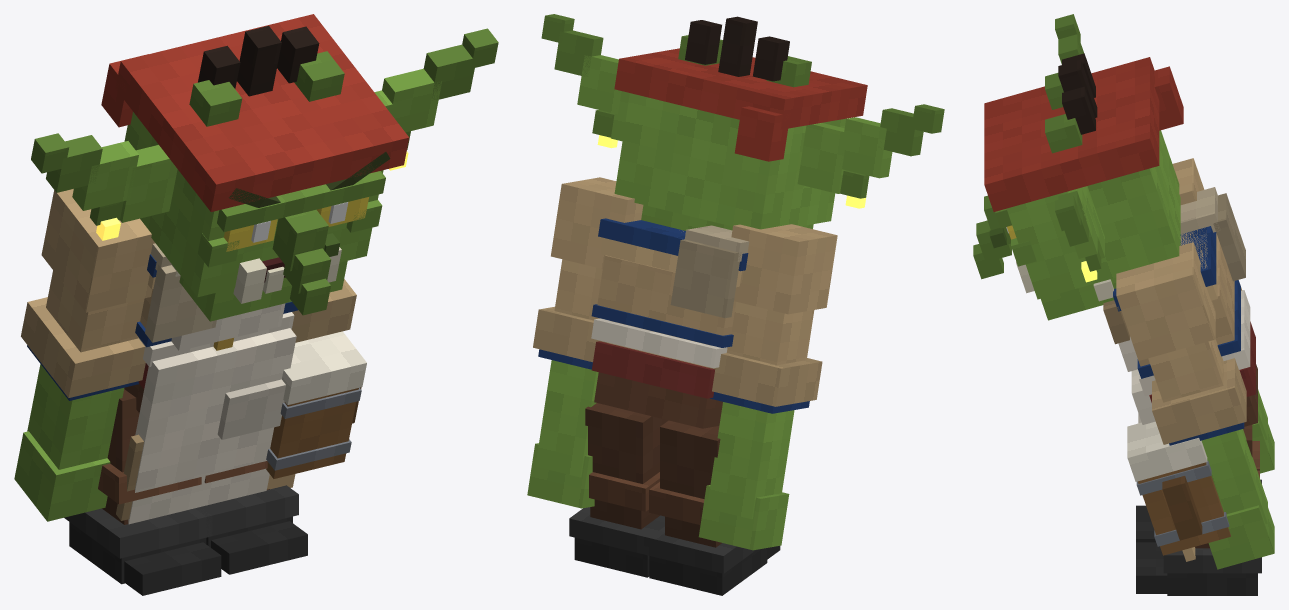
File: goblin_aubergiste_v3.glb
3 renders of one model, left to right at view 1: azimuth 30°, elevation 25°; view 2: azimuth 150°, elevation 25°; view 3: azimuth 270°, elevation 25°, orthographic. The views are drawn at different scales.
Parts seen in each view (by area): view 1: Head, Torso, ArmR, LegR, HandL, LegL, ArmL; view 2: Head, ArmR, Torso, ArmL, LegL, LegR; view 3: Head, ArmL, Torso, HandL, LegL, ArmR, LegR.
Part boxes in pixels (x1=…): Head: x1=31, y1=14, x2=498, y2=321; Torso: x1=116, y1=243, x2=297, y2=524; ArmR: x1=14, y1=189, x2=155, y2=521; LegR: x1=64, y1=389, x2=221, y2=595; HandL: x1=266, y1=331, x2=366, y2=478; LegL: x1=195, y1=461, x2=307, y2=574; ArmL: x1=291, y1=279, x2=356, y2=342; Head: x1=541, y1=14, x2=944, y2=230; ArmR: x1=698, y1=224, x2=837, y2=550; Torso: x1=591, y1=218, x2=749, y2=428; ArmL: x1=527, y1=177, x2=643, y2=508; LegL: x1=569, y1=403, x2=668, y2=577; LegR: x1=644, y1=420, x2=780, y2=595; Head: x1=973, y1=14, x2=1183, y2=320; ArmL: x1=1116, y1=242, x2=1274, y2=569; Torso: x1=1093, y1=187, x2=1257, y2=561; HandL: x1=1127, y1=421, x2=1230, y2=555; LegL: x1=1136, y1=425, x2=1261, y2=595; ArmR: x1=1172, y1=158, x2=1274, y2=473; LegR: x1=1136, y1=441, x2=1261, y2=542.
Bounding box in the file's own units: 1.09 × 1.32 × 0.727.
45 materials, 45 textured.
